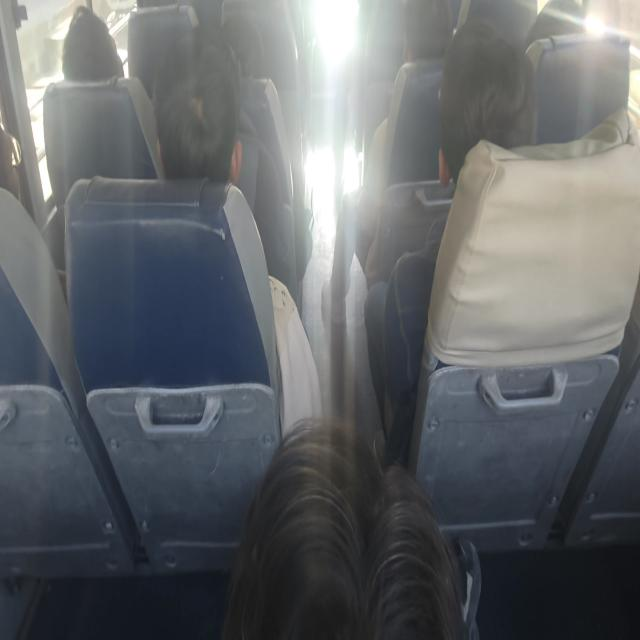person: (364, 18, 537, 448), (152, 26, 323, 437), (223, 415, 471, 638), (356, 0, 454, 271), (42, 4, 158, 204), (152, 25, 243, 185), (61, 5, 124, 81)
